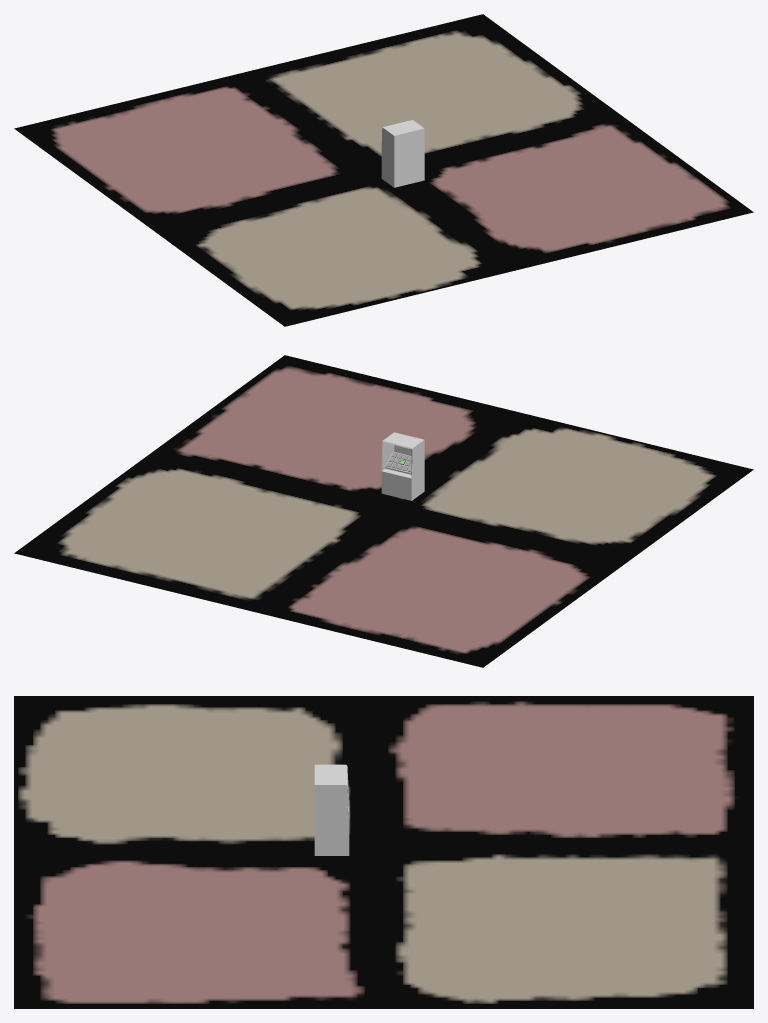
The model's file is new_match_puzzle.fbx.
3 views of the same model, one above another, from view 1: azimuth 30°, elevation 25°; view 2: azimuth 150°, elevation 25°; view 3: azimuth 270°, elevation 25° (orthographic). The views are drawn at different scales.
Parts seen in each view (by area): view 1: Floor, Cube; view 2: Floor, Cube; view 3: Floor, Cube.
Part boxes in pixels (x1,y1,x2,y2): Floor: (14, 14, 753, 326); Cube: (381, 120, 424, 187); Floor: (14, 355, 753, 667); Cube: (381, 432, 424, 500); Floor: (14, 696, 753, 1008); Cube: (314, 764, 349, 855).
Bounding box in the file's own units: 1700 × 318 × 1700.
